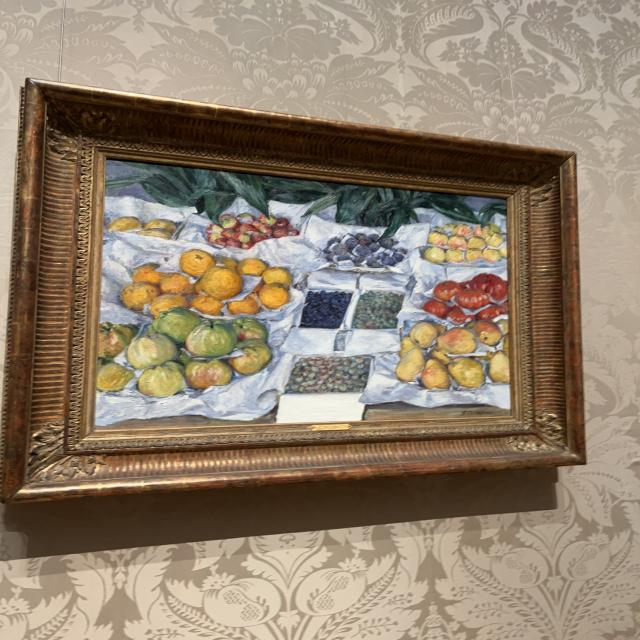fruits: (91, 158, 512, 431)
